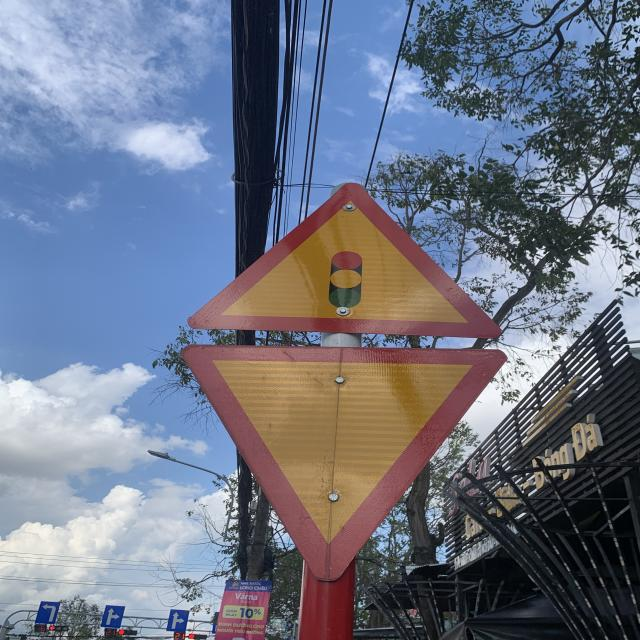Duong_Co_Go_Giam_Toc: (188, 179, 502, 337)
Gioi_Han_Toc_Do_25: (182, 343, 506, 577)
